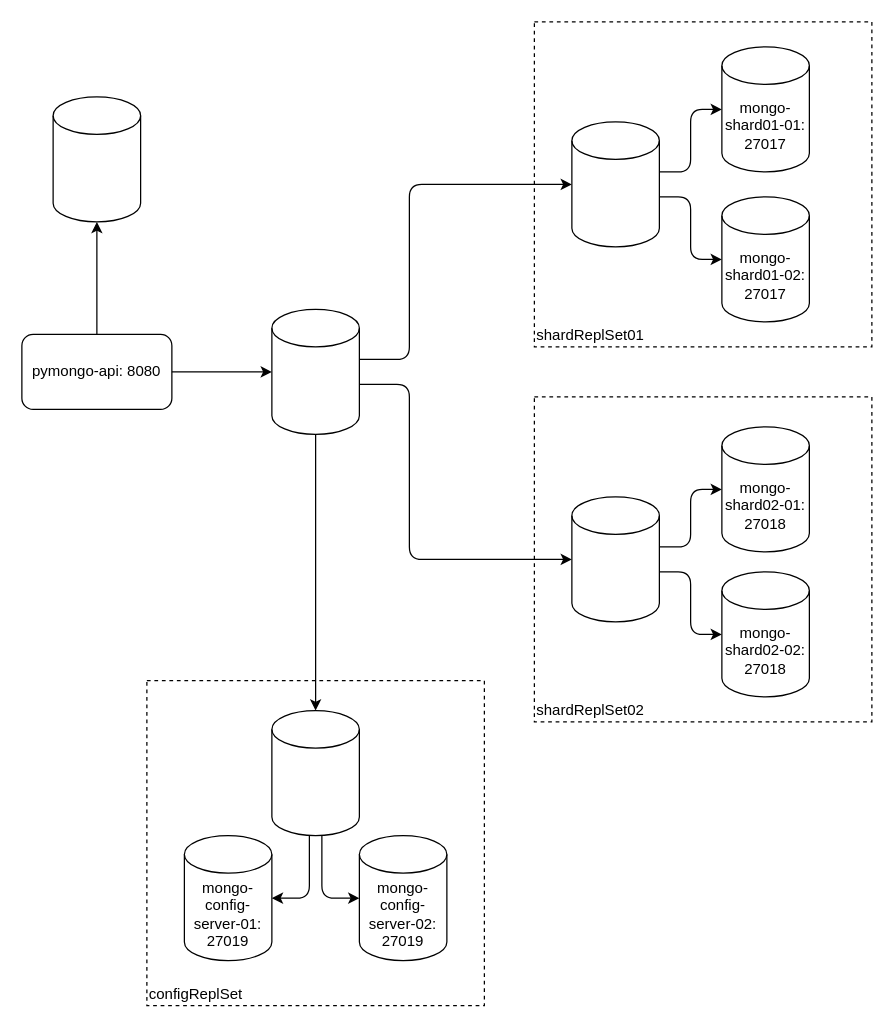
The diagram is 894 pixels wide and 1028 high, and some of its shapes have lost their labels. Here are the shapes that lost their labels. From the top down, the centre of each, then its label:
[96,159]: redis-cache: 6379
[615,184]: mongo-shard01-00: 27017
[315,371]: mongo-router: 27020
[615,559]: mongo-shard02-00: 27018
[315,772]: mongo-config-server-00: 27019
